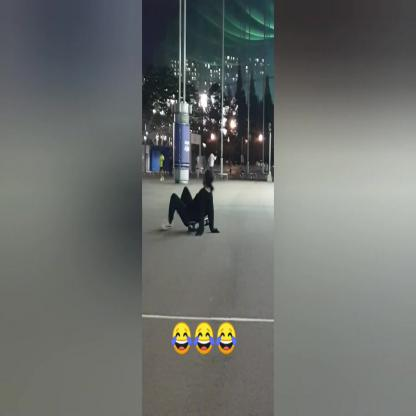Fall_Down: (156, 170, 223, 240)
